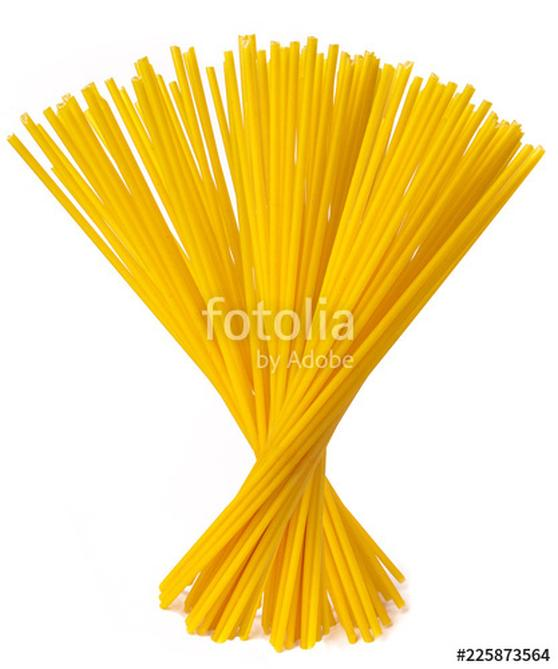spaghetti: (9, 39, 548, 662)
